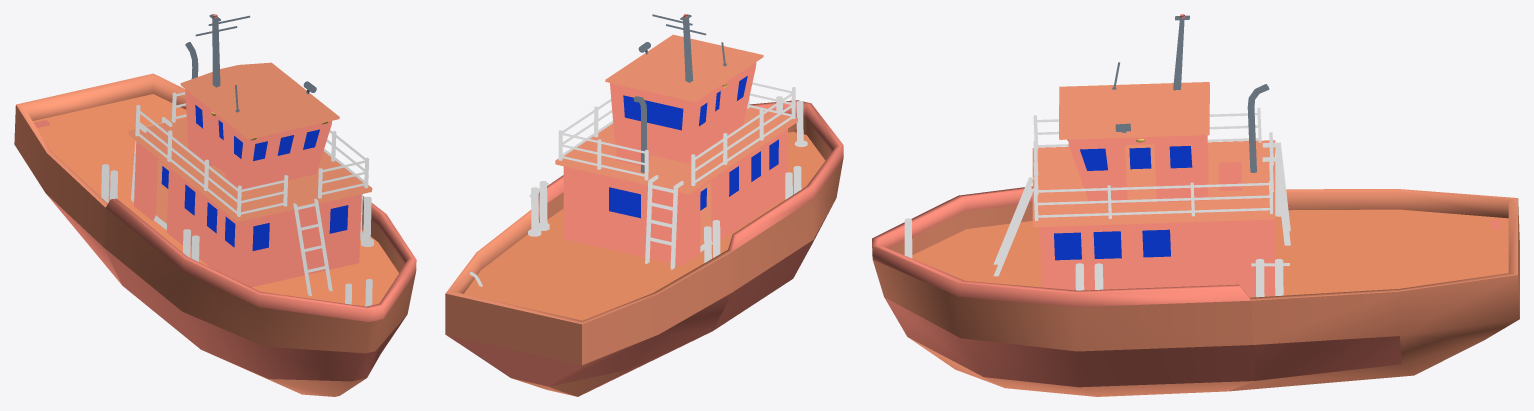
File: boat.gltf
3 views of the same model, side by side, from view 1: azimuth 30°, elevation 25°; view 2: azimuth 150°, elevation 25°; view 3: azimuth 270°, elevation 25° (orthographic). The views are drawn at different scales.
Visible parts, largest first — view 1: Body, Floor:1, Floor:2, Roof, Cube.2_2, Cube.6_1, Cube.8_2, Cube.9_3, Cylinder.2_2, Cube.15, Cube.13_2, Cube.14_1; view 2: Body, Floor:1, Floor:2, Cube.2_2, Roof, Cube.6_1, Cube.7_1, Pipe, Cube.9_2, Cube.8_1, Cylinder.2, Cylinder.3 (+2 smaller); view 3: Body, Floor:1, Cube.2_2, Floor:2, Roof, Cube.15_2, Cube.13_4, Cube.14_3, Pipe, Cube.7_1, Cube.8_1.
Part boxes in pixels (box(x1,y1,x2,y2)): Body: box(14, 73, 416, 396); Floor:1: box(134, 141, 361, 287); Floor:2: box(185, 89, 332, 189); Roof: box(180, 62, 339, 139); Cube.2_2: box(128, 117, 372, 221); Cube.6_1: box(209, 14, 220, 87); Cube.8_2: box(293, 203, 311, 296); Cube.9_3: box(314, 198, 332, 291); Cylinder.2_2: box(363, 196, 371, 242); Cube.15: box(137, 121, 237, 202); Cube.13_2: box(138, 110, 238, 191); Cube.14_1: box(137, 133, 237, 214); Body: box(445, 100, 843, 396); Floor:1: box(563, 129, 787, 265); Floor:2: box(610, 62, 756, 163); Cube.2_2: box(555, 107, 797, 194); Roof: box(605, 34, 763, 102); Cube.6_1: box(680, 14, 693, 82); Cube.7_1: box(616, 140, 650, 165); Pipe: box(633, 96, 646, 172); Cube.9_2: box(670, 186, 678, 269); Cube.8_1: box(645, 182, 652, 263); Cylinder.2: box(539, 181, 547, 226); Cylinder.3: box(531, 187, 538, 232); Body: box(872, 186, 1519, 396); Floor:1: box(1039, 215, 1275, 296); Cube.2_2: box(1032, 140, 1275, 227); Floor:2: box(1068, 135, 1208, 204); Roof: box(1059, 82, 1209, 139); Cube.15_2: box(1037, 195, 1269, 205); Cube.13_4: box(1038, 208, 1269, 217); Cube.14_3: box(1037, 182, 1268, 192); Pipe: box(1247, 84, 1269, 172); Cube.7_1: box(1218, 162, 1241, 191); Cube.8_1: box(1275, 159, 1290, 245).
Bounding box in the file's own units: 51.34 × 79.48 × 128.
